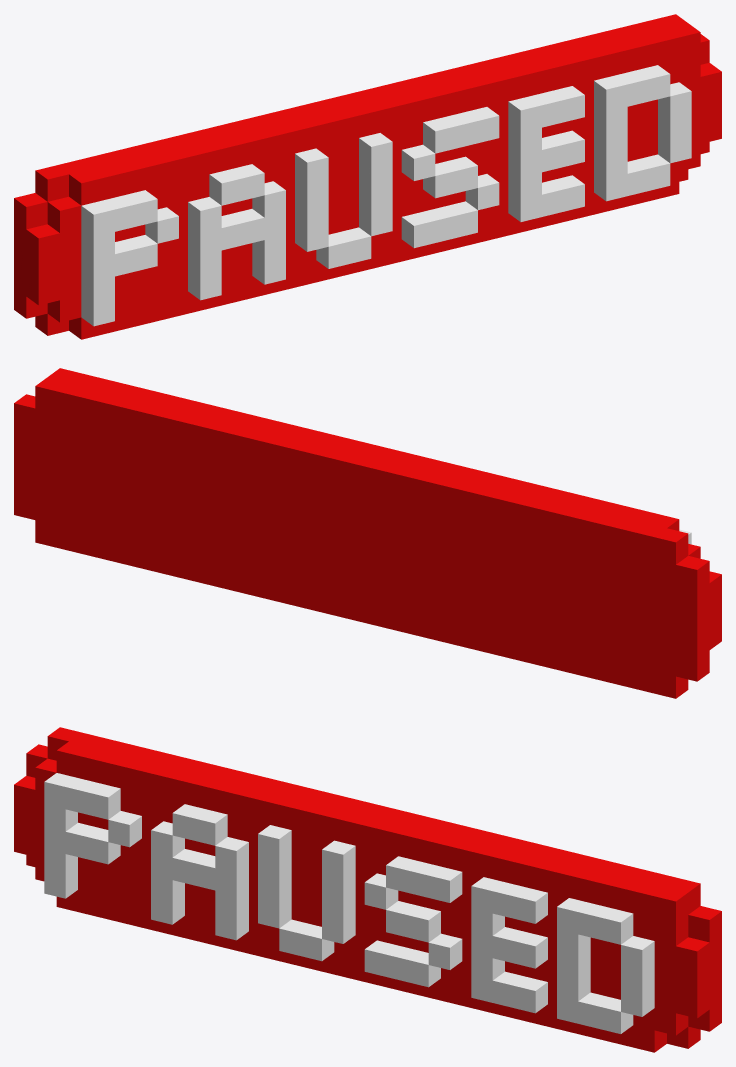
The model's file is paused.obj.
The picture shows the model from 3 angles, top to bottom: view 1: azimuth 30°, elevation 25°; view 2: azimuth 150°, elevation 25°; view 3: azimuth 330°, elevation 25°; orthographic projection.
Parts seen in each view (by area): view 1: paused; view 2: paused; view 3: paused.
Boxes of the visible parts, x1,y1,x2,y2 form: paused: (14, 14, 721, 339); paused: (14, 368, 721, 698); paused: (14, 727, 721, 1052).
Bounding box in the file's own units: 32 × 7 × 3.
Materials: 1 (1 with a texture image).
